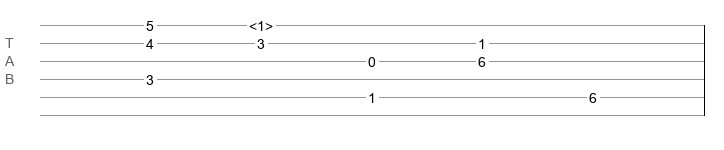0: (368, 54, 376, 64)
1: (368, 90, 376, 100), (478, 36, 486, 46)
3: (146, 72, 154, 82), (257, 36, 265, 46)
4: (146, 36, 154, 46)
5: (146, 18, 154, 28)
6: (478, 54, 486, 64), (589, 90, 597, 100)
harmonic: (249, 18, 273, 28)
